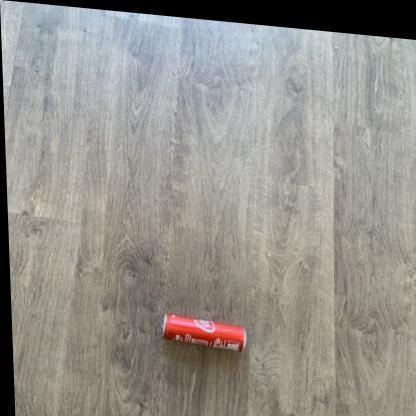trash: (163, 313, 246, 351)
